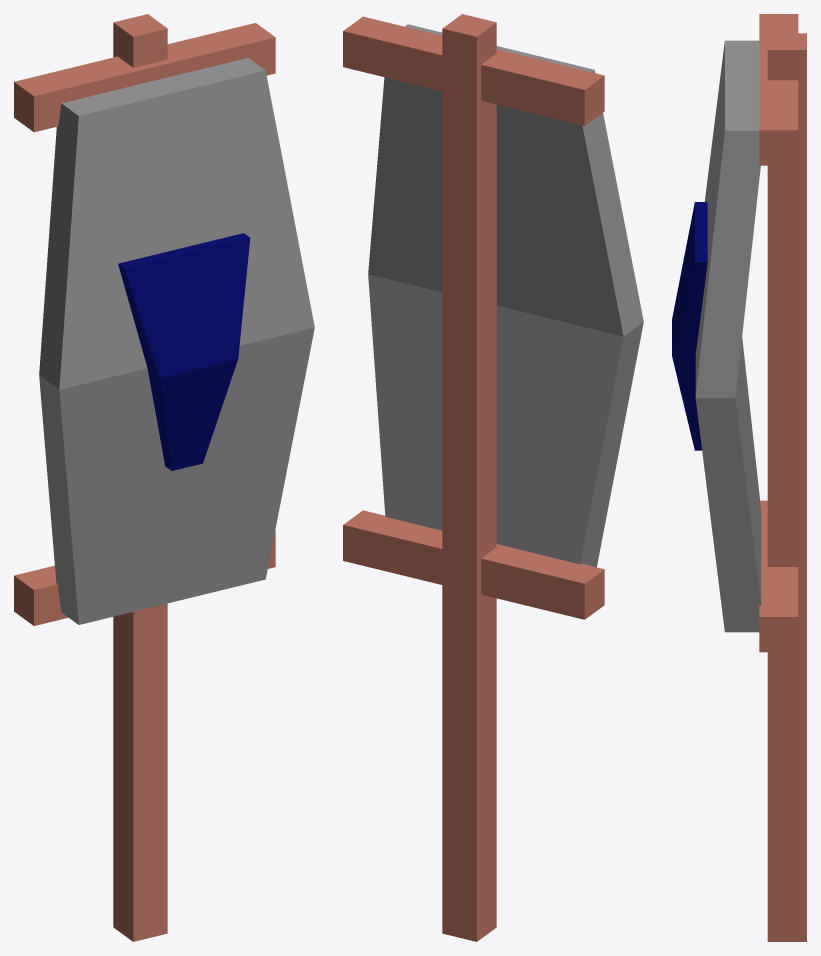
The model's file is banner.fbx.
3 views of the same model, side by side, from view 1: azimuth 30°, elevation 25°; view 2: azimuth 150°, elevation 25°; view 3: azimuth 270°, elevation 25° (orthographic).
Visible parts, largest first — view 1: Banner; view 2: Banner; view 3: Banner.
Boxes of the visible parts, left/top/right/bottom form: Banner: left=14, top=14, right=314, bottom=941; Banner: left=343, top=14, right=643, bottom=941; Banner: left=672, top=14, right=806, bottom=941.
Size of the model in its own units: 179 by 607 by 83.05.
